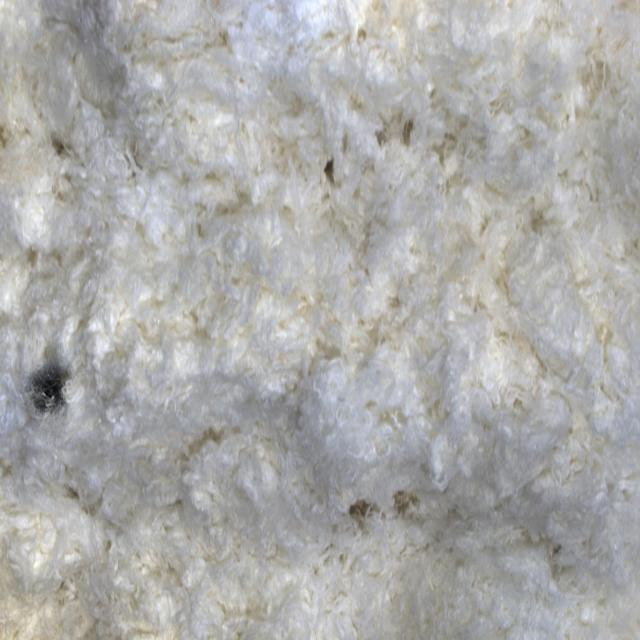dust: (10, 324, 95, 458)
